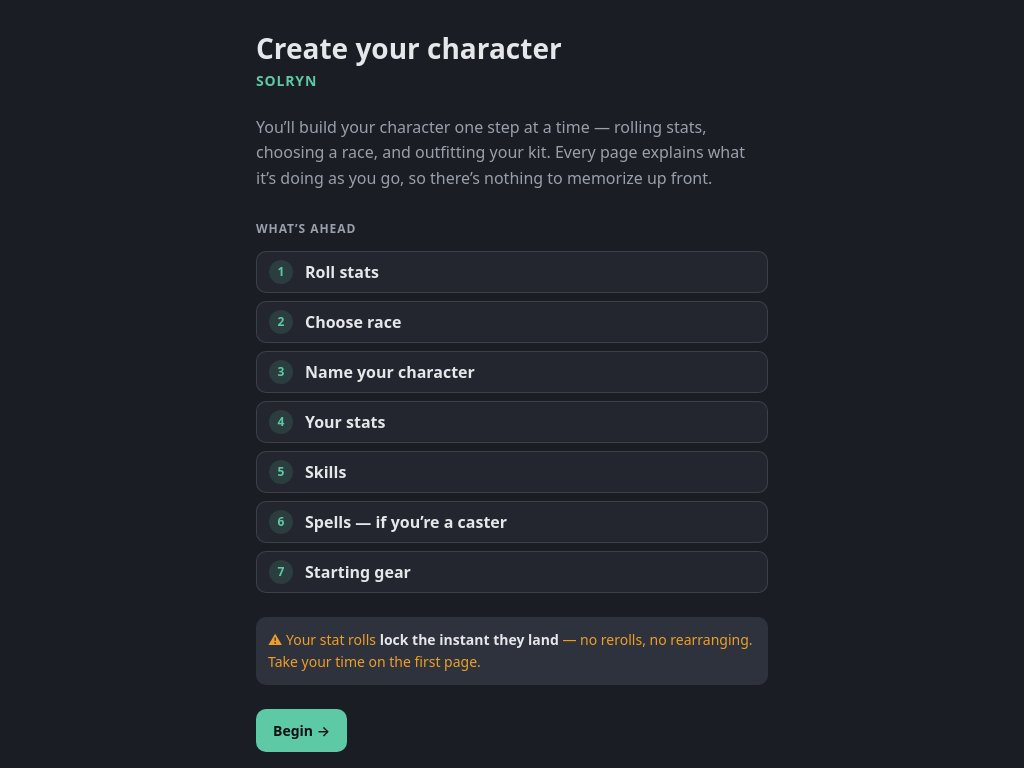
Scenario: CharacterBuilder (integration smoke) › opens on a welcome splash (not a numbered step); Begin reveals step 1
Expected: the heading "Create your character" is shown, [256, 29, 562, 67]
Expected: the text "Step 1 of" is not shown
Click the button "Begin →" at (302, 730), box [256, 709, 347, 752]
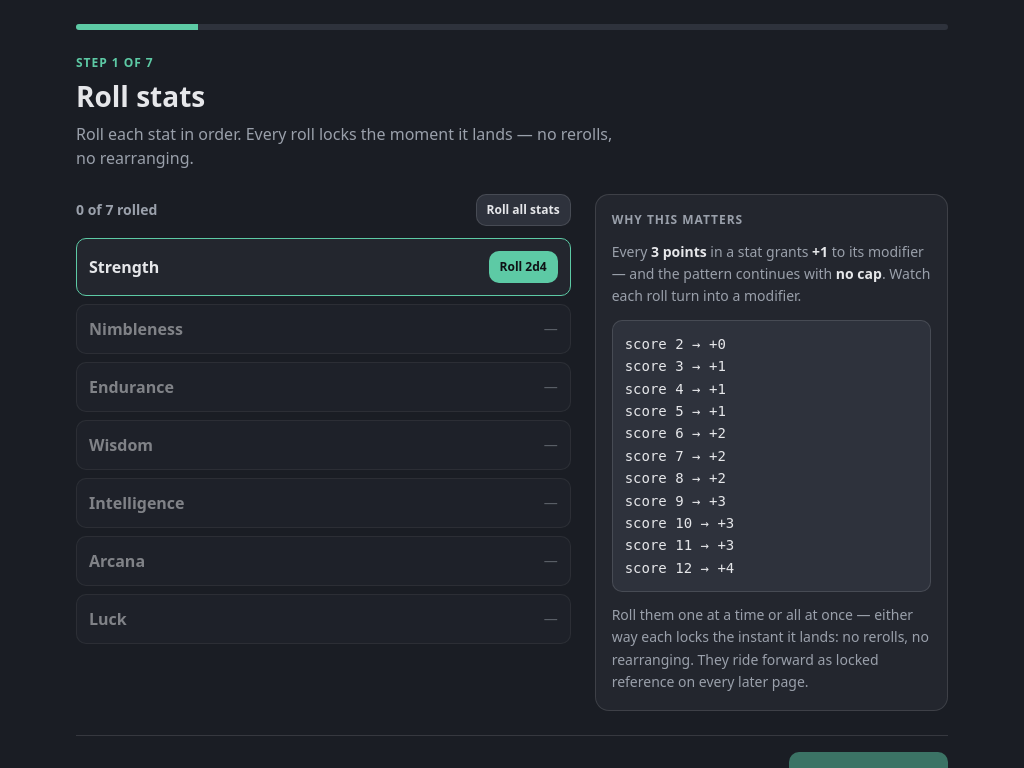
Result: the text "Step 1 of 7" is shown at [76, 54, 154, 71]
